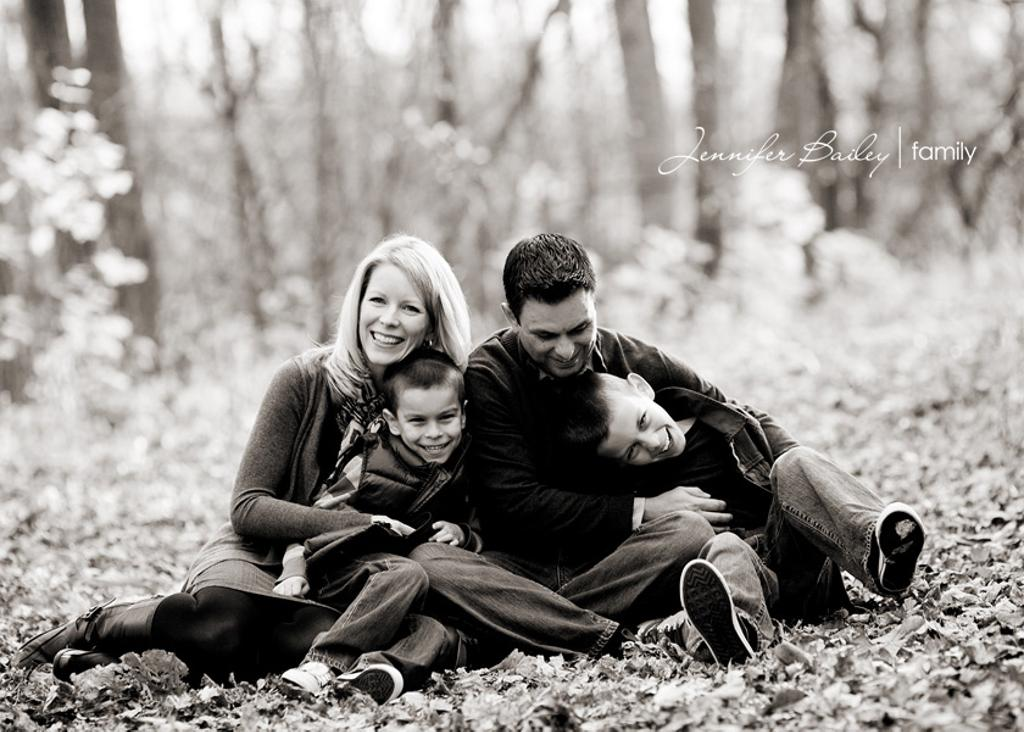face: (514, 278, 600, 388), (594, 390, 686, 468), (396, 378, 466, 466), (360, 268, 422, 360)
